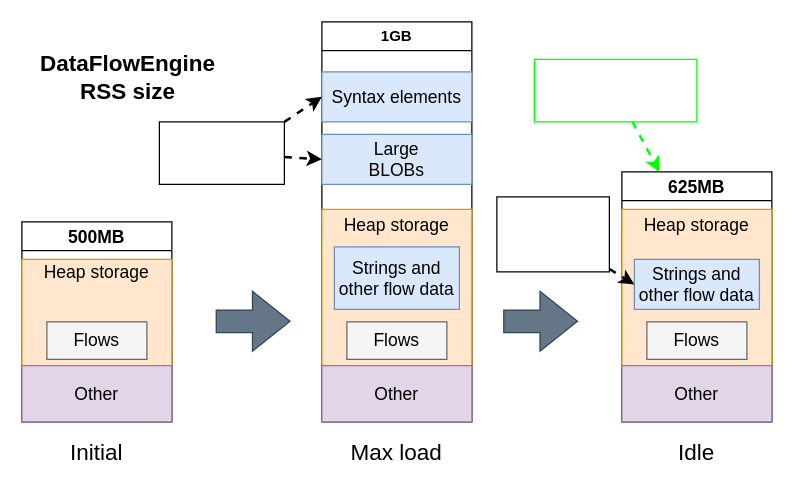
This 794x494 diagram has some shape labels left out. Here are the shapes that lost their labels. From the top down, the centre of each, then its label:
(x=615, y=90): mmap data can be returned to the OS
(x=221, y=152): mmap outside the heap
(x=552, y=234): Not all storage can be freed
